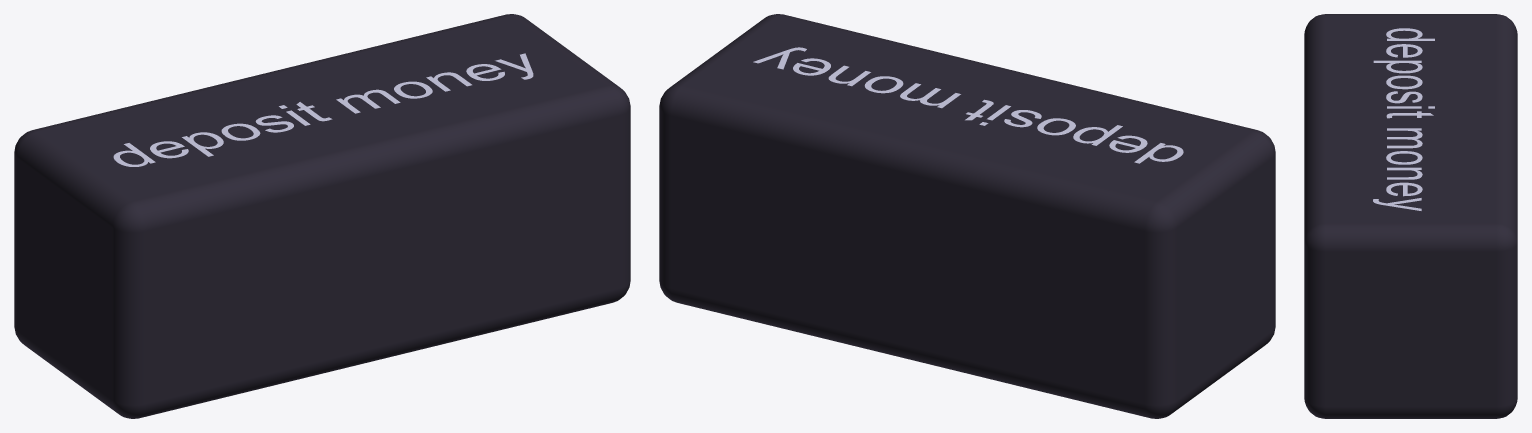
The model's file is deposit_money.glb.
3 views of the same model, side by side, from view 1: azimuth 30°, elevation 25°; view 2: azimuth 150°, elevation 25°; view 3: azimuth 270°, elevation 25° (orthographic). The views are drawn at different scales.
Parts seen in each view (by area): view 1: Cut, Extrude; view 2: Cut, Extrude; view 3: Cut, Extrude.
Boxes of the visible parts, bbox=[...] form: Cut: bbox=[14, 14, 630, 418]; Extrude: bbox=[113, 53, 533, 166]; Cut: bbox=[659, 14, 1275, 418]; Extrude: bbox=[753, 47, 1183, 163]; Cut: bbox=[1304, 14, 1517, 418]; Extrude: bbox=[1373, 28, 1434, 210].
Size of the model in its own units: 5 by 2 by 2.
